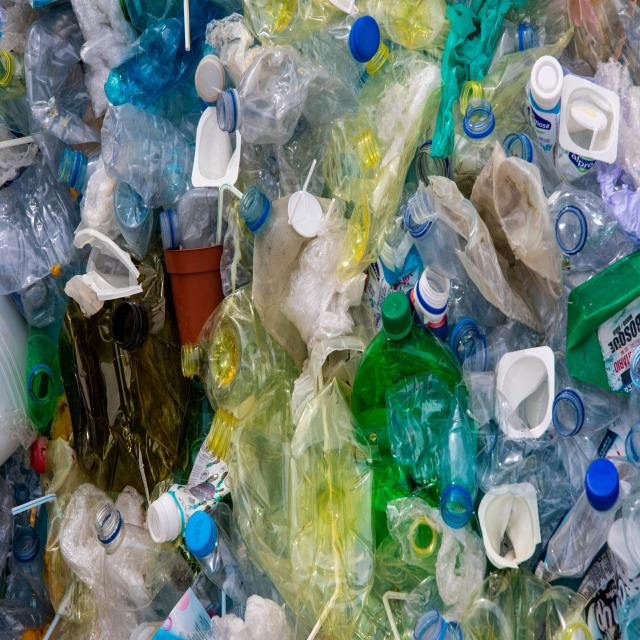plastic: (246, 134, 536, 558)
